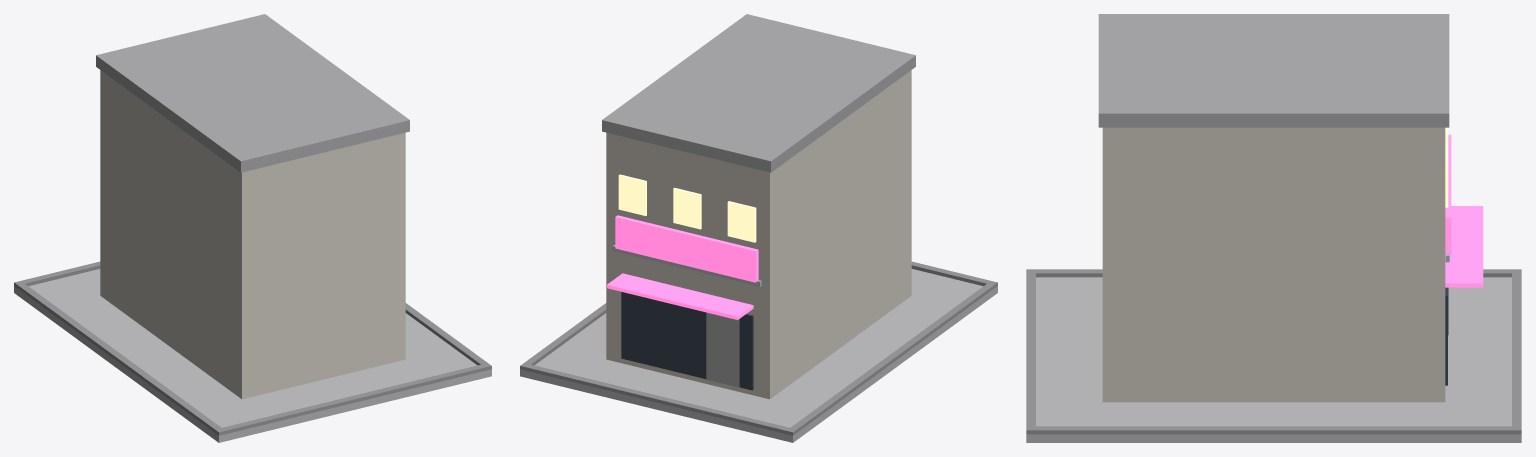
File: bt-shophouse-1.glb
The picture shows the model from 3 angles, left to right: view 1: azimuth 30°, elevation 25°; view 2: azimuth 150°, elevation 25°; view 3: azimuth 270°, elevation 25°; orthographic projection. The views are drawn at different scales.
Parts seen in each view (by area): view 1: body, roofedge, skirt_slab, skirt_curb_s, skirt_curb_w, skirt_curb_e, skirt_curb_n; view 2: body, roofedge, skirt_slab, storefront, signboard, awning, door, skirt_curb_n, skirt_curb_w, win_0, win_2, win_1 (+3 smaller); view 3: body, roofedge, skirt_slab, skirt_curb_e, awning, skirt_curb_n, skirt_curb_s, skirt_curb_w, signboard.
Boxes of the visible parts, box(x1,y1,x2,y2) form: body: box(100, 70, 405, 399); roofedge: box(96, 14, 409, 172); skirt_slab: box(14, 269, 491, 442); skirt_curb_s: box(215, 363, 491, 435); skirt_curb_w: box(18, 283, 221, 432); skirt_curb_e: box(405, 303, 487, 365); skirt_curb_n: box(14, 261, 100, 288); body: box(606, 70, 911, 399); roofedge: box(602, 14, 915, 172); skirt_slab: box(520, 269, 997, 442); storefront: box(621, 292, 753, 390); signboard: box(615, 215, 758, 282); awning: box(607, 273, 753, 319); door: box(706, 312, 739, 387); skirt_curb_n: box(520, 363, 796, 435); skirt_curb_w: box(790, 283, 993, 432); win_0: box(727, 201, 756, 242); win_2: box(618, 174, 646, 215); win_1: box(673, 187, 701, 229); body: box(1102, 127, 1445, 402); roofedge: box(1098, 14, 1449, 127); skirt_slab: box(1026, 277, 1521, 442); skirt_curb_e: box(1036, 426, 1511, 434); awning: box(1445, 206, 1483, 287); skirt_curb_n: box(1512, 269, 1521, 434); skirt_curb_s: box(1026, 269, 1035, 434); skirt_curb_w: box(1036, 269, 1511, 277); signboard: box(1445, 134, 1451, 255).
Bounding box in the file's own units: 10 × 8.65 × 13.
